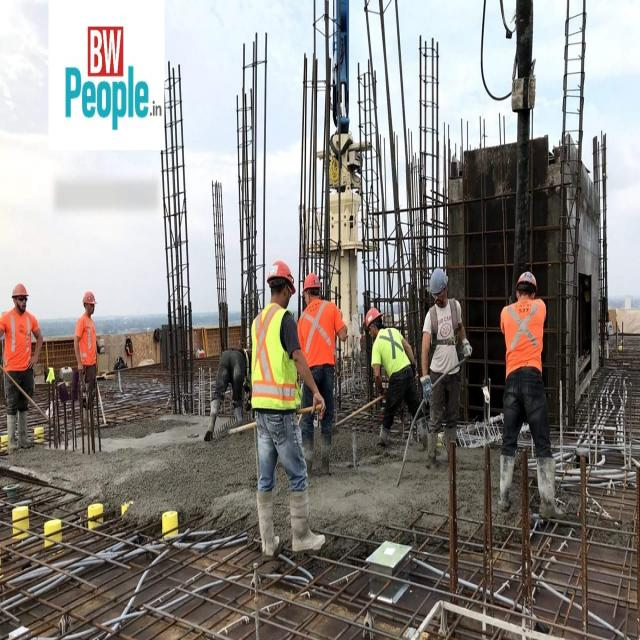Reflective-Jacket: (248, 302, 300, 414), (296, 302, 342, 414), (498, 300, 548, 383), (371, 322, 415, 380), (2, 308, 34, 372), (75, 314, 97, 369)
Safety-Helmet: (264, 254, 298, 294), (511, 262, 543, 298), (425, 261, 453, 299), (361, 300, 387, 332), (300, 267, 324, 297), (81, 288, 98, 308), (11, 280, 29, 298)
